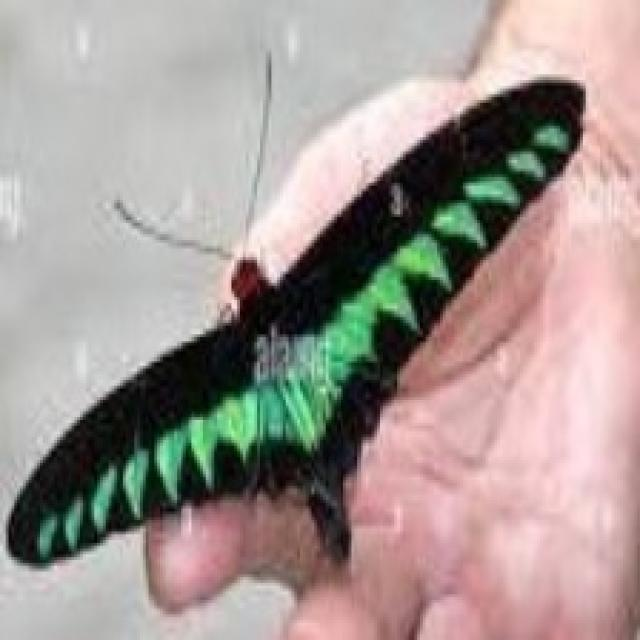butterfly: (3, 51, 586, 572)
